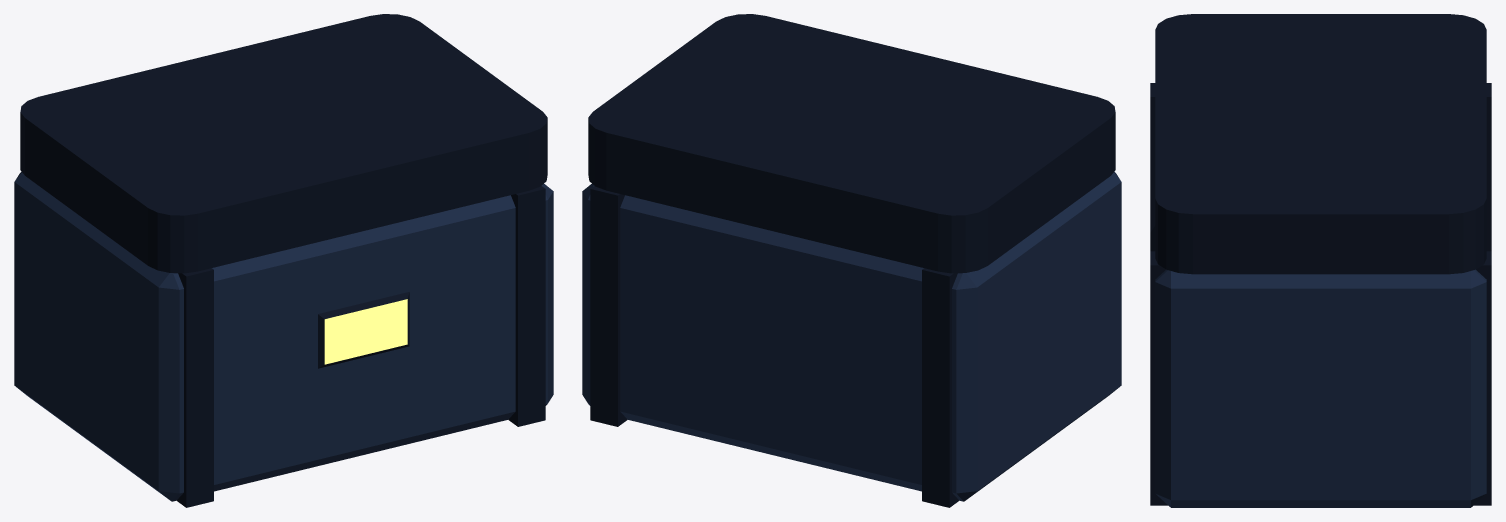
Rendered from DataChest.fbx.
The picture shows the model from 3 angles, left to right: view 1: azimuth 30°, elevation 25°; view 2: azimuth 150°, elevation 25°; view 3: azimuth 270°, elevation 25°; orthographic projection. The views are drawn at different scales.
Parts seen in each view (by area): view 1: KIT_DataChest_Body, KIT_DataChest_Lid; view 2: KIT_DataChest_Body, KIT_DataChest_Lid; view 3: KIT_DataChest_Lid, KIT_DataChest_Body.
Part boxes in pixels (left/top/right/bottom): KIT_DataChest_Body: left=14, top=171, right=553, bottom=507; KIT_DataChest_Lid: left=20, top=14, right=547, bottom=273; KIT_DataChest_Body: left=582, top=171, right=1121, bottom=507; KIT_DataChest_Lid: left=588, top=14, right=1115, bottom=273; KIT_DataChest_Lid: left=1155, top=14, right=1486, bottom=274; KIT_DataChest_Body: left=1150, top=83, right=1491, bottom=507.
Bounding box in the file's own units: 1 × 0.7 × 0.72.
